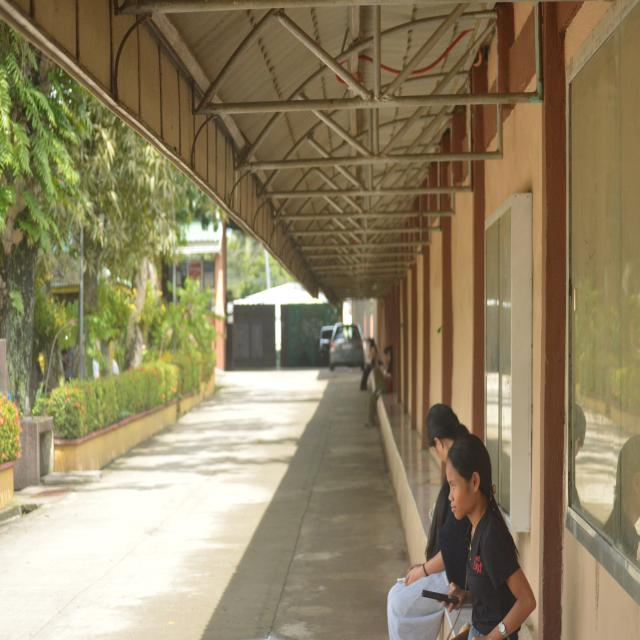person: (447, 435, 536, 639), (388, 480, 468, 639), (604, 436, 639, 565)
